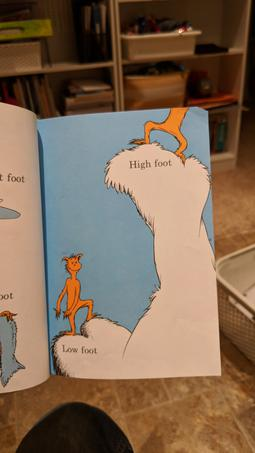text block: (124, 155, 178, 170), (1, 167, 29, 190), (59, 343, 104, 356), (1, 289, 21, 301)
